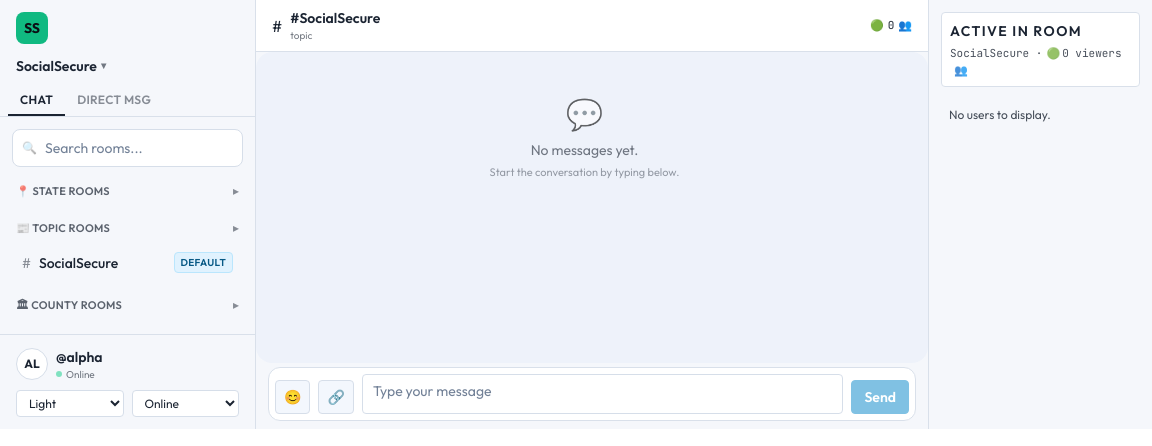
Chat zip room indicator › keeps the composer in normal flow while a locked DM overlay is visible
The image size is (1152, 446).
Click the tab "DIRECT MSG" at (114, 100), box x1=65 y1=84 x2=163 y2=116
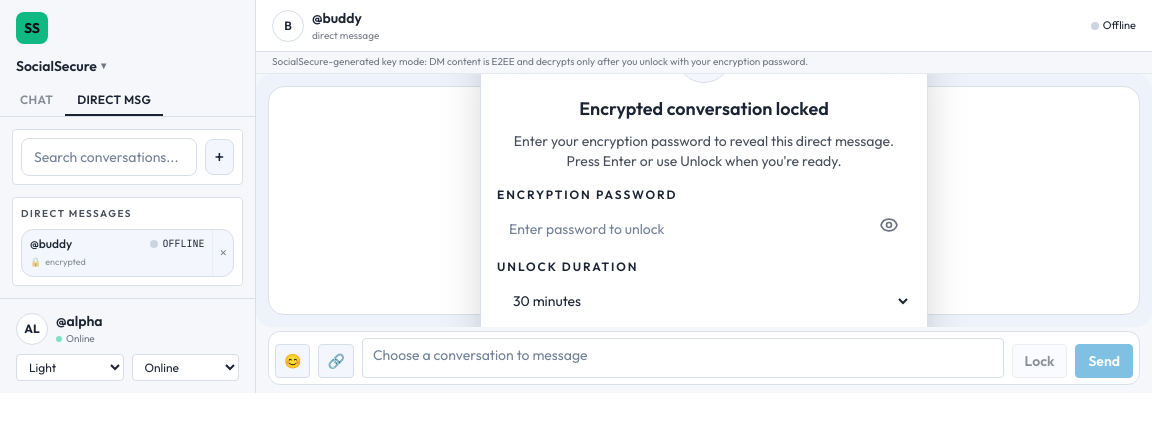
Expected: the element with test id "chat-message-panel" is shown, x1=256 y1=74 x2=1151 y2=327
Expected: the element with test id "dm-lock-overlay" is shown, x1=268 y1=86 x2=1140 y2=315
Expected: the text box with placeholder "Choose a conversation to message" is disabled, x1=362 y1=338 x2=1004 y2=378
